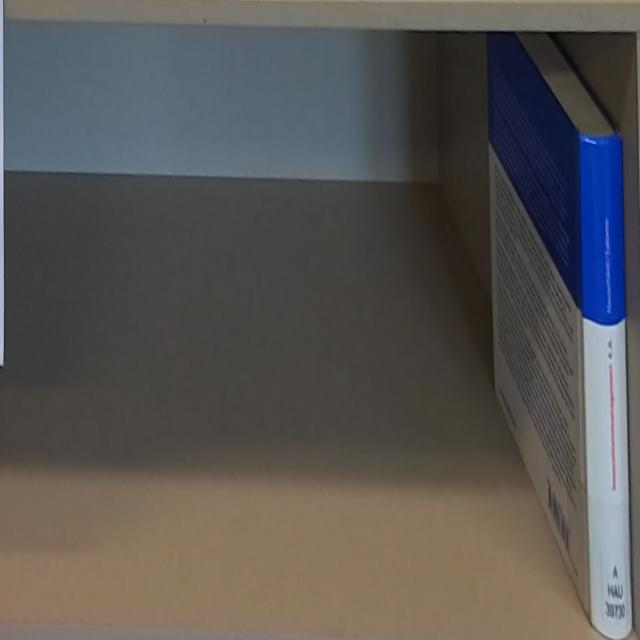Book Spine: (580, 132, 633, 639)
